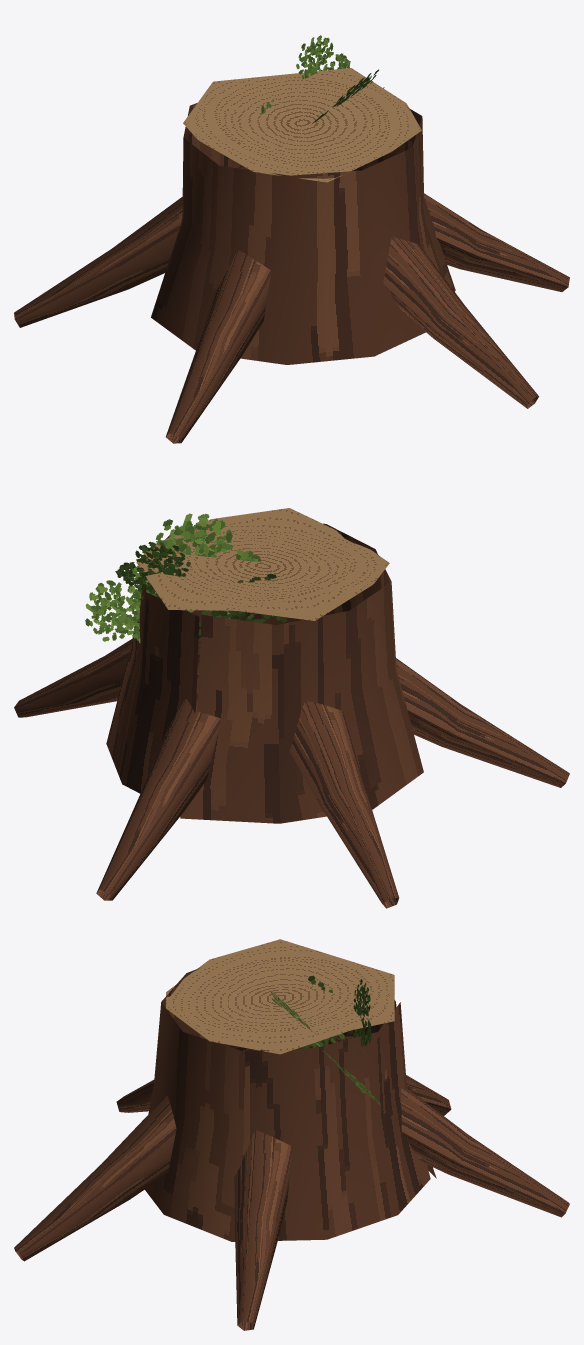
File: flora_stump.glb
The picture shows the model from 3 angles, top to bottom: view 1: azimuth 30°, elevation 25°; view 2: azimuth 150°, elevation 25°; view 3: azimuth 270°, elevation 25°; orthographic projection. The views are drawn at different scales.
Visible parts, largest first — view 1: flora_stump; view 2: flora_stump; view 3: flora_stump.
Boxes of the visible parts, x1,y1,x2,y2 form: flora_stump: (14,35,569,443); flora_stump: (14,508,569,908); flora_stump: (14,939,569,1330).
Bounding box in the file's own units: 1.77 × 1.03 × 1.85.
Materials: 3 (3 with a texture image).
